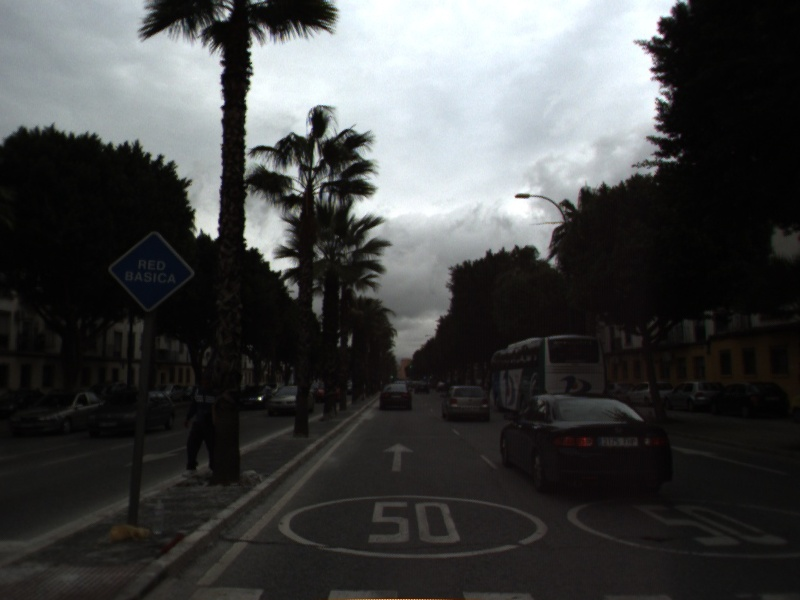STRAIGHT: (669, 444, 790, 478), (380, 440, 416, 474)
